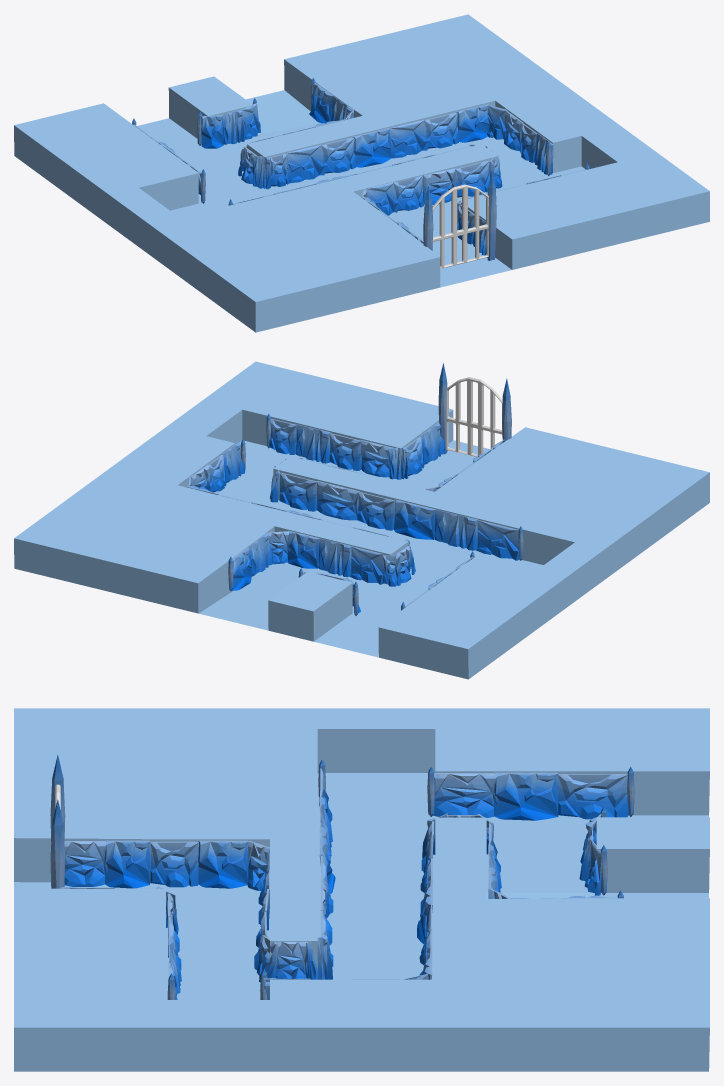
File: LEVEL.fbx
3 views of the same model, one above another, from view 1: azimuth 30°, elevation 25°; view 2: azimuth 150°, elevation 25°; view 3: azimuth 270°, elevation 25° (orthographic). The views are drawn at different scales.
Visible parts, largest first — view 1: Cube, Cube.015, wall_03.016, wall_01.008, wall_01.009, wall_03.017, wall_05.020, wall_05.019, wall_05.015, wall_05.013, wall_04.014, wall_03.021 (+12 smaller); view 2: Cube, Cube.015, wall_02.022, wall_03.019, wall_01.013, wall_04.021, wall_05.012, wall_05.023, wall_02.020, wall_02.018, wall_03.018, wall_01.010 (+14 smaller); view 3: Cube, wall_03.013, wall_05.010, wall_04.008, wall_03.014, wall_05.009, wall_03.012, wall_04.007, wall_04.012, link.006, wall_02.013, wall_04.011 (+3 smaller).
Part boxes in pixels (x1,y1,x2,y2): Cube: (14,14,709,332); Cube.015: (432,184,488,268); wall_03.016: (352,128,391,167); wall_01.008: (286,144,324,183); wall_01.009: (389,119,427,158); wall_03.017: (456,104,489,142); wall_05.020: (424,112,458,148); wall_05.019: (321,137,355,173); wall_05.015: (455,160,489,197); wall_05.013: (393,175,423,210); wall_04.014: (423,168,455,204); wall_03.021: (201,114,223,148); Cube: (14,361,709,679); Cube.015: (446,377,502,456); wall_02.022: (434,509,477,550); wall_03.019: (394,499,435,539); wall_01.013: (476,520,519,560); wall_04.021: (317,481,359,520); wall_05.012: (279,472,317,511); wall_05.023: (357,492,395,530); wall_02.020: (296,424,330,463); wall_02.018: (318,538,351,577); wall_03.018: (287,531,319,568); wall_01.010: (350,546,383,584); Cube: (14,708,709,1071); wall_03.013: (494,772,558,820); wall_05.010: (558,774,628,819); wall_04.008: (433,773,499,817); wall_03.014: (198,840,248,888); wall_05.009: (150,841,198,887); wall_03.012: (105,840,149,888); wall_04.007: (64,841,108,886); wall_04.012: (273,941,308,978); link.006: (50,799,65,888); wall_02.013: (306,935,332,979); wall_04.011: (247,841,269,890).
Bounding box in the file's own units: 21403 × 4218 × 19723.
7 materials, 6 textured.
